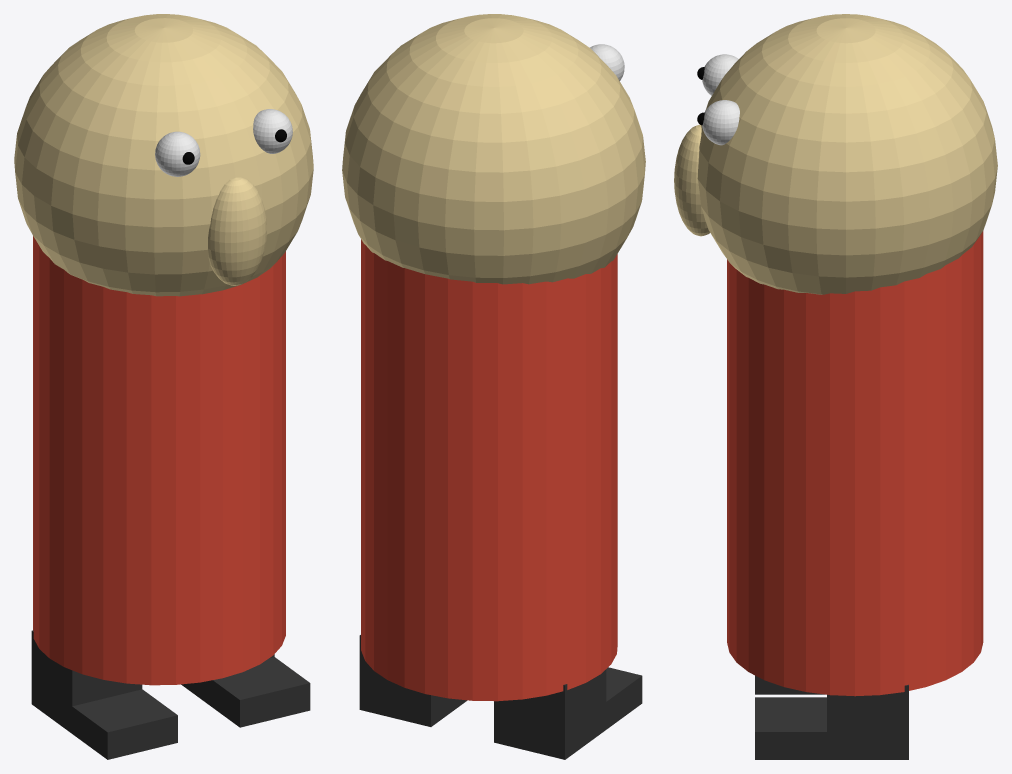
The model's file is player.fbx.
3 views of the same model, side by side, from view 1: azimuth 30°, elevation 25°; view 2: azimuth 150°, elevation 25°; view 3: azimuth 270°, elevation 25° (orthographic).
Parts seen in each view (by area): view 1: Cylinder, Sphere, Cube, Sphere.003, Sphere.001; view 2: Cylinder, Sphere, Cube, Sphere.001; view 3: Cylinder, Sphere, Cube, Sphere.003, Sphere.001.
Part boxes in pixels (x1,y1,x2,y2): Cylinder: [33, 236, 285, 685]; Sphere: [14, 14, 313, 296]; Cube: [31, 630, 310, 759]; Sphere.003: [208, 177, 266, 285]; Sphere.001: [155, 109, 292, 176]; Cylinder: [361, 239, 617, 701]; Sphere: [342, 14, 645, 284]; Cube: [359, 635, 642, 759]; Sphere.001: [590, 44, 624, 80]; Cylinder: [727, 231, 983, 696]; Sphere: [697, 14, 997, 294]; Cube: [755, 675, 908, 759]; Sphere.003: [674, 124, 709, 236]; Sphere.001: [702, 54, 739, 145].
Bounding box in the file's own units: 237 × 587 × 253.
